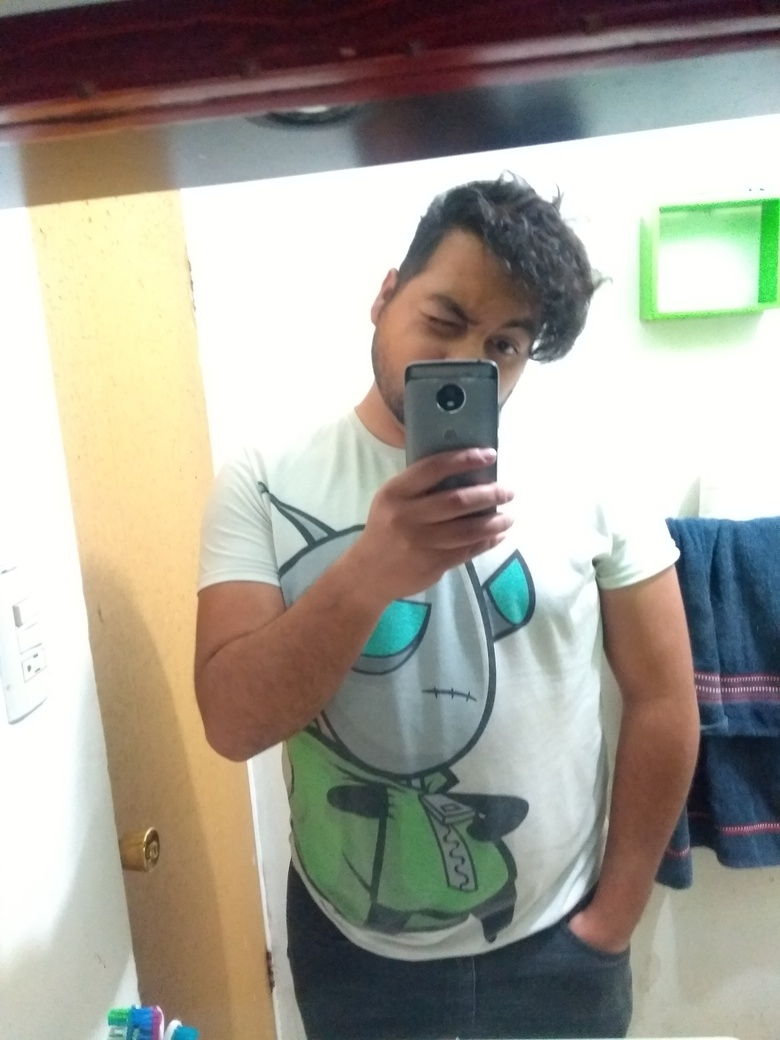Yoshi: (347, 149, 616, 503)
